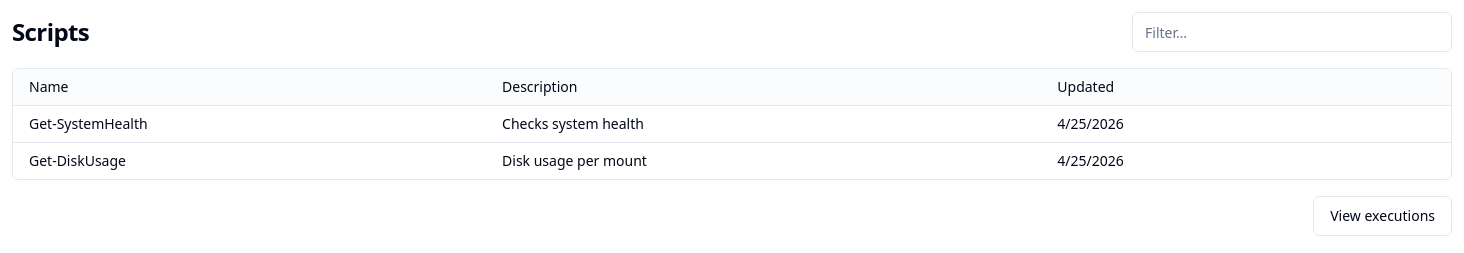
Test: ScriptsPage › filters rows by the search input
The image size is (1464, 253).
Expected: the link "Get-SystemHealth" is shown, [29,114,148,133]
Type "Disk" into the field with placeholder "Filter…" at [1292, 32], box [1132,12,1452,52]
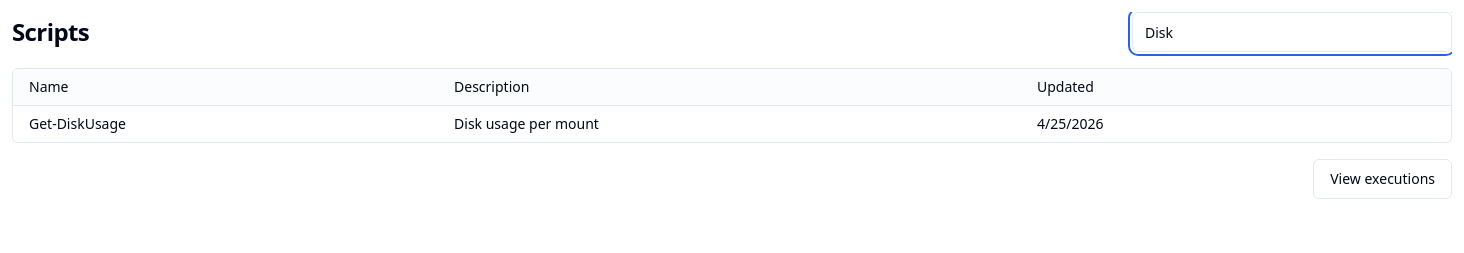
Expected: the link "Get-DiskUsage" is shown, [29,114,126,133]
Expected: the link "Get-SystemHealth" is gone
